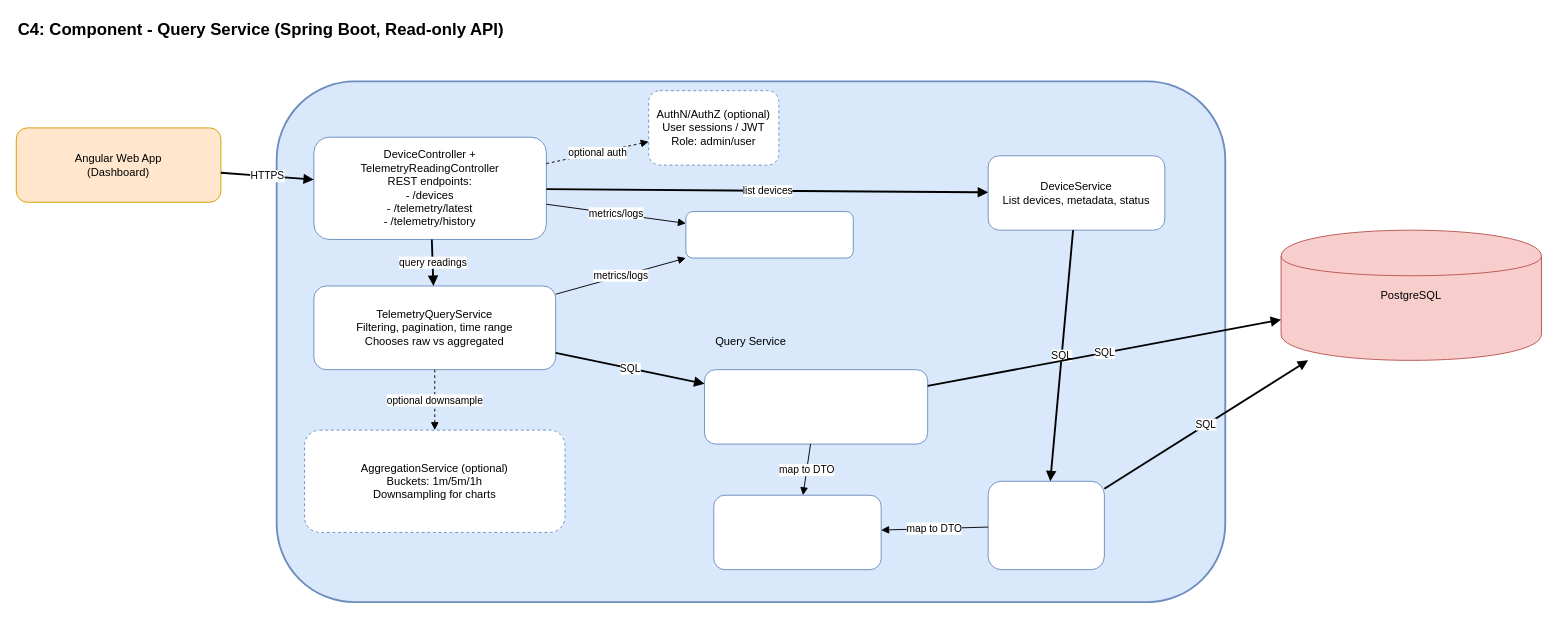
The diagram is 1558 pixels wide and 618 high, and some of its shapes have lost their labels. The centre of each missing label's shape, as x and y in pixels:
DeviceRepository SQL queries for devices/certs: (x=1045, y=525)
DTO Mapper Entity -> API DTO (MapStruct/manual): (x=797, y=532)
Observability Metrics, logs, tracing: (x=769, y=234)
TelemetryReadingRepository SQL queries for readings: (x=816, y=406)
